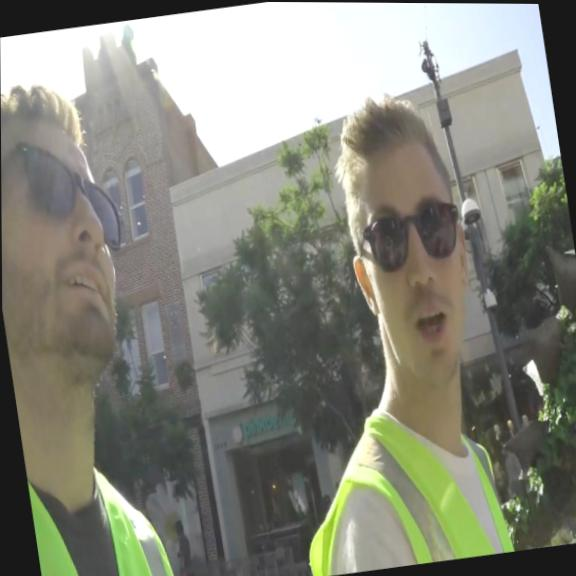safety_vest: (288, 394, 517, 576), (25, 449, 181, 576)
